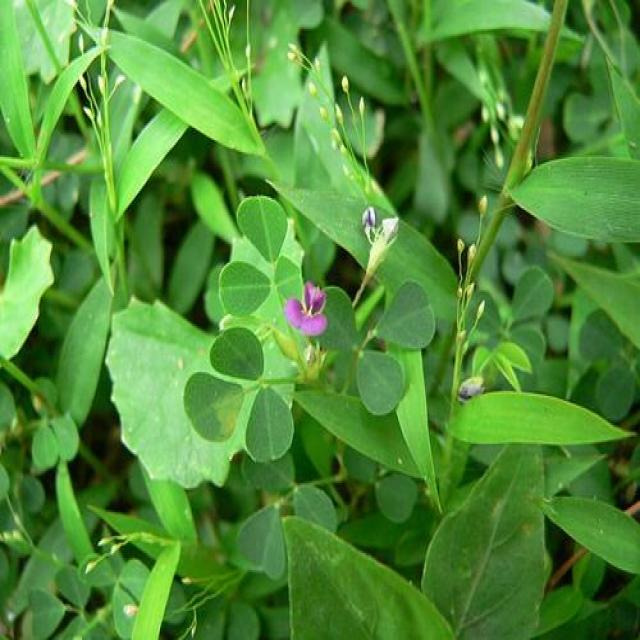organic waste: (274, 266, 334, 338), (360, 200, 410, 278)
